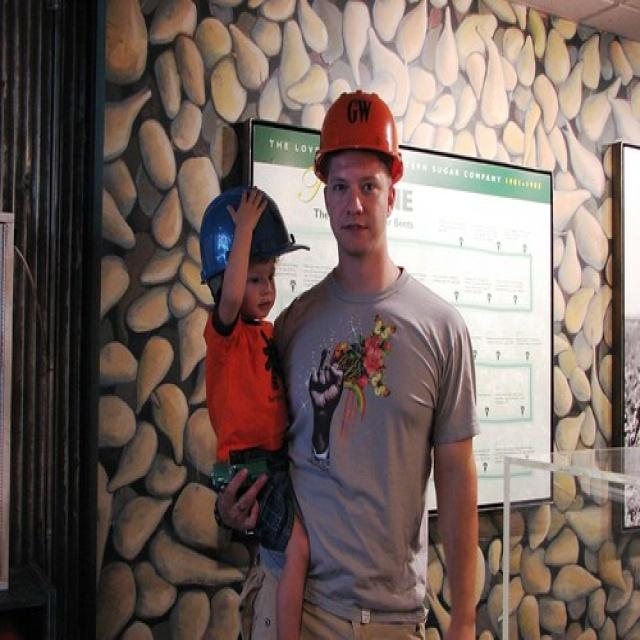helmet: (314, 114, 406, 234), (199, 248, 310, 339)
